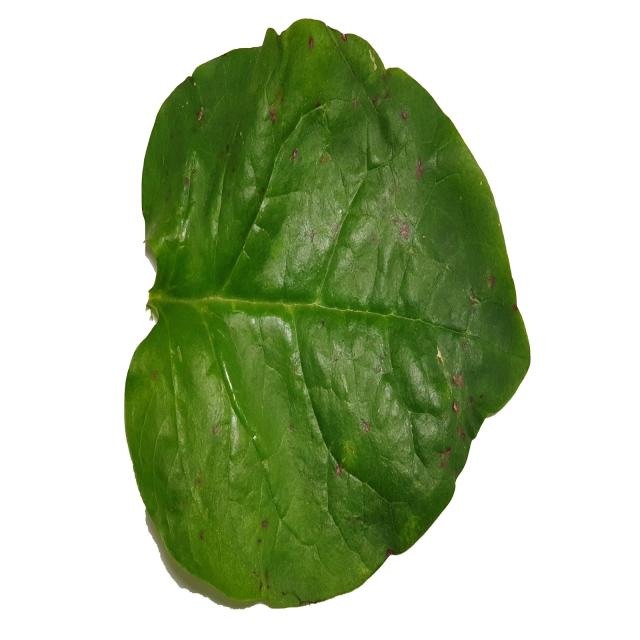Medicinal-Basale: (122, 16, 532, 606)
